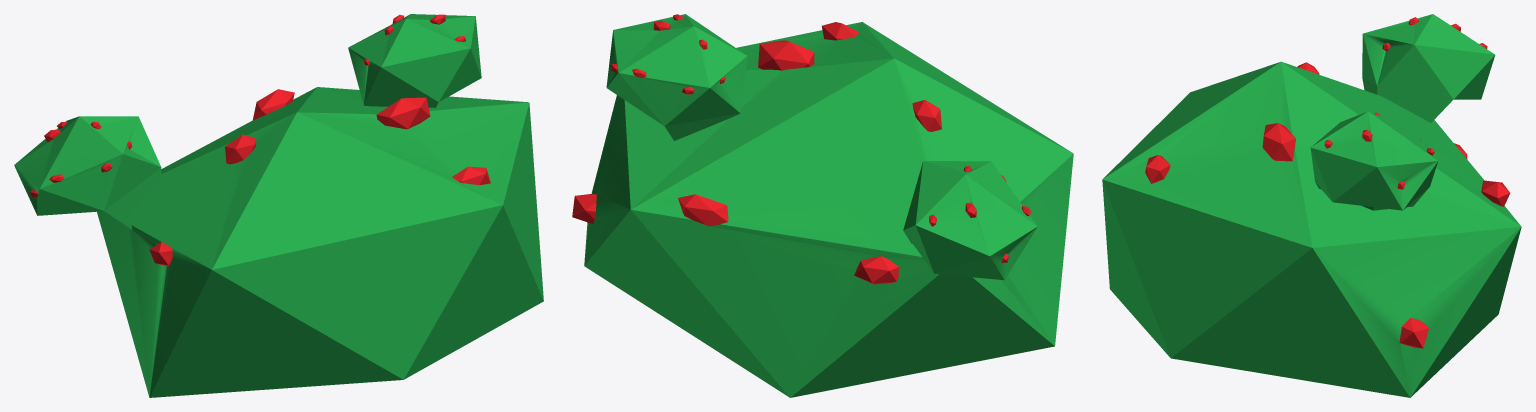
Rendered from BigBush.obj.
3 views of the same model, side by side, from view 1: azimuth 30°, elevation 25°; view 2: azimuth 150°, elevation 25°; view 3: azimuth 270°, elevation 25° (orthographic). The views are drawn at different scales.
Parts seen in each view (by area): view 1: Icosphere.000_Icosphere.010; view 2: Icosphere.000_Icosphere.010; view 3: Icosphere.000_Icosphere.010.
Part boxes in pixels (x1=…): Icosphere.000_Icosphere.010: x1=14, y1=14, x2=543, y2=397; Icosphere.000_Icosphere.010: x1=572, y1=14, x2=1073, y2=397; Icosphere.000_Icosphere.010: x1=1102, y1=14, x2=1521, y2=397.
Size of the model in its own units: 3.13 by 1.89 by 2.5.
1 material, 1 textured.
